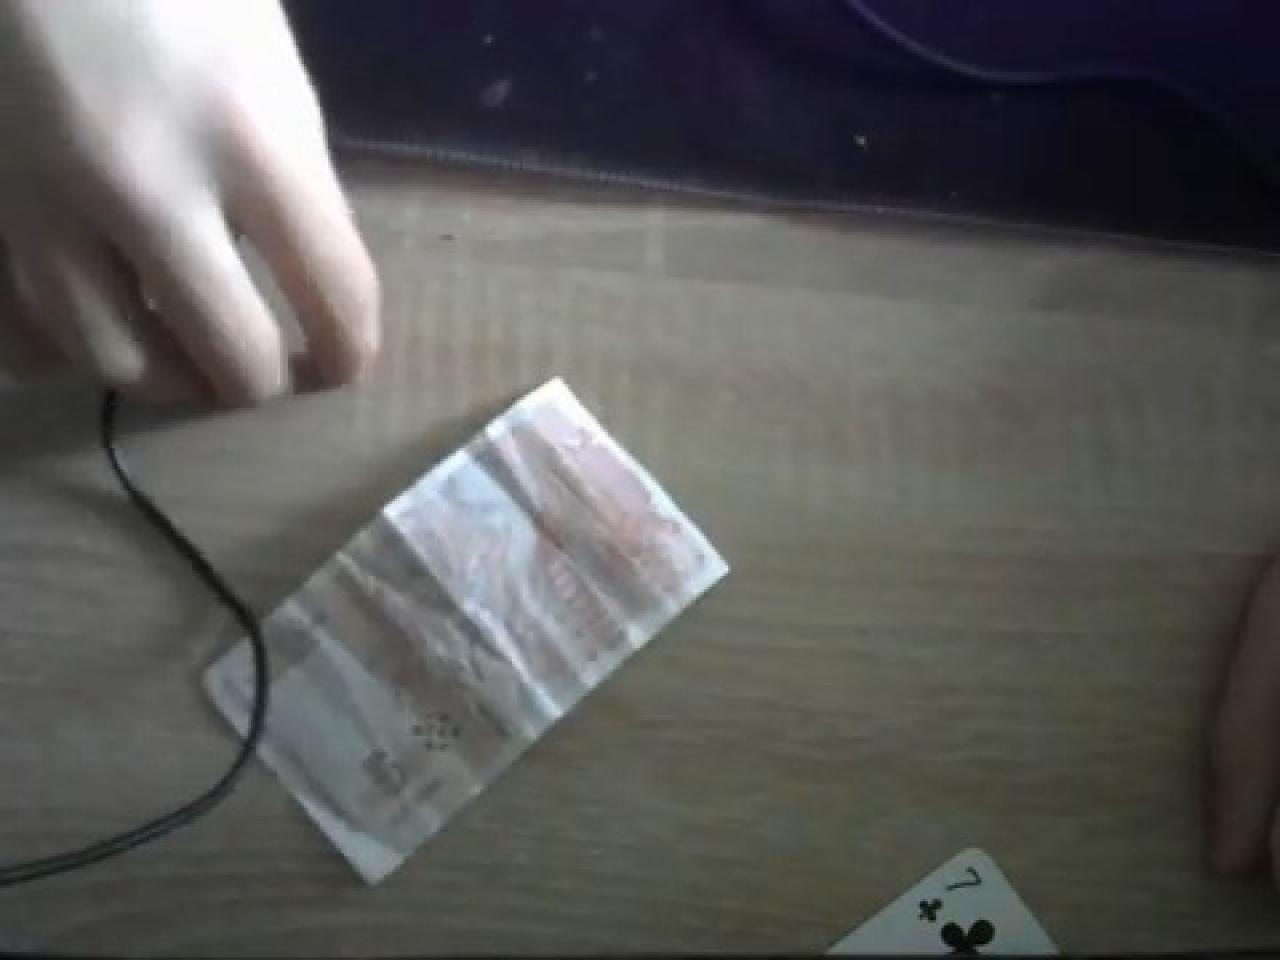5leva: (191, 379, 731, 890)
